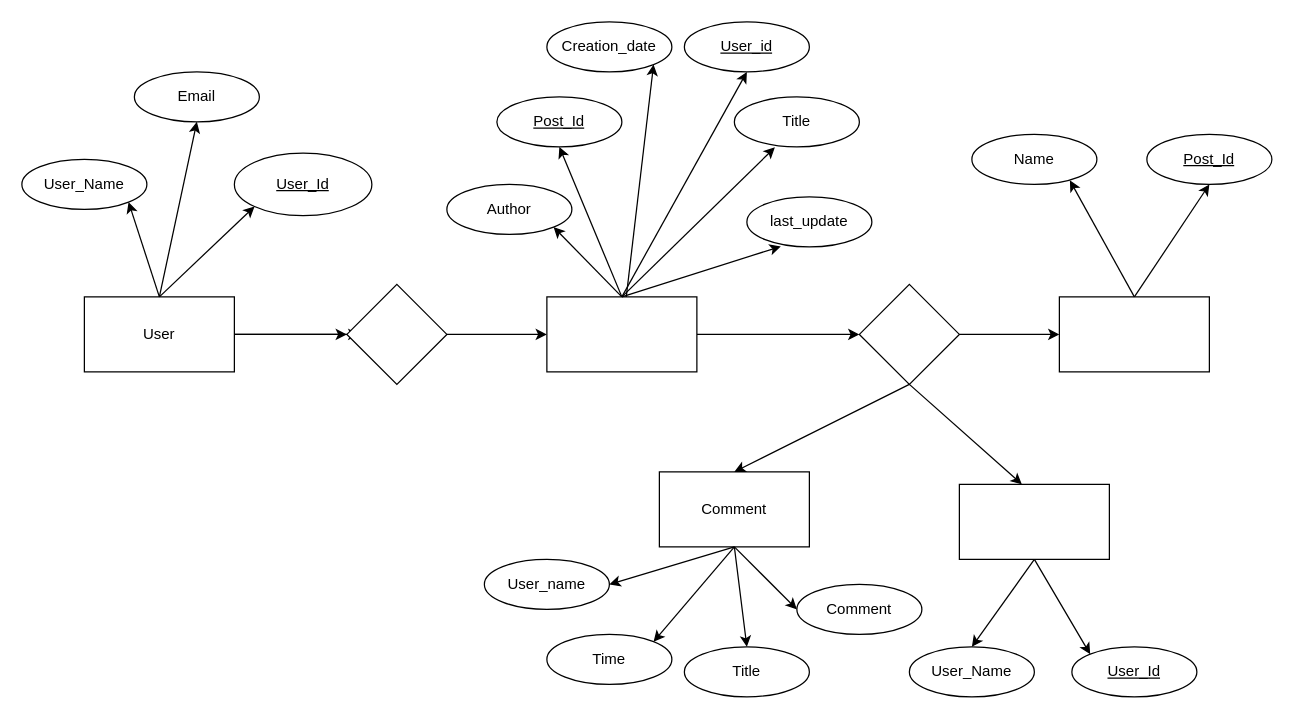
Image size: 1294x719. Some labels were removed from this diagram. The centre of each missing label's shape, as x and y in pixels:
Blog_post: (x=621, y=334)
Category: (x=1133, y=334)
has: (x=908, y=333)
Reaction: (x=1033, y=521)
Writes: (x=396, y=333)
